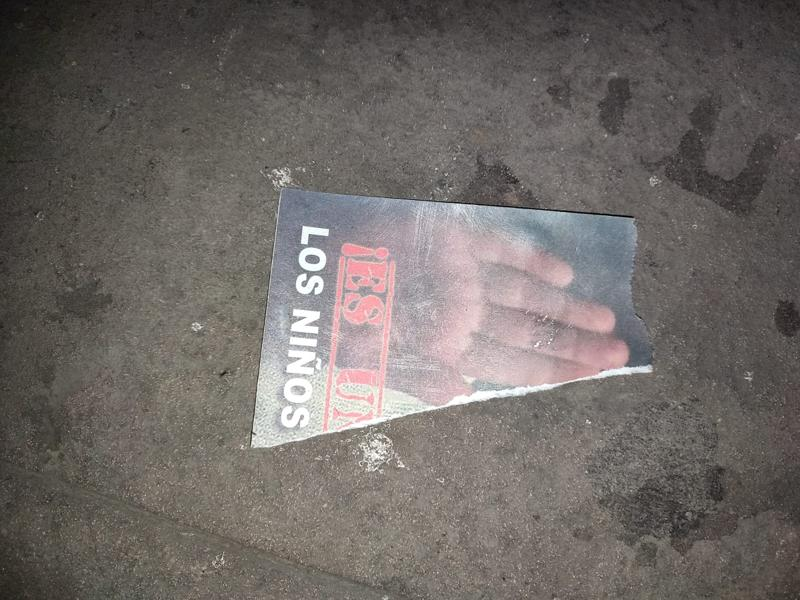papel: (250, 187, 654, 451)
